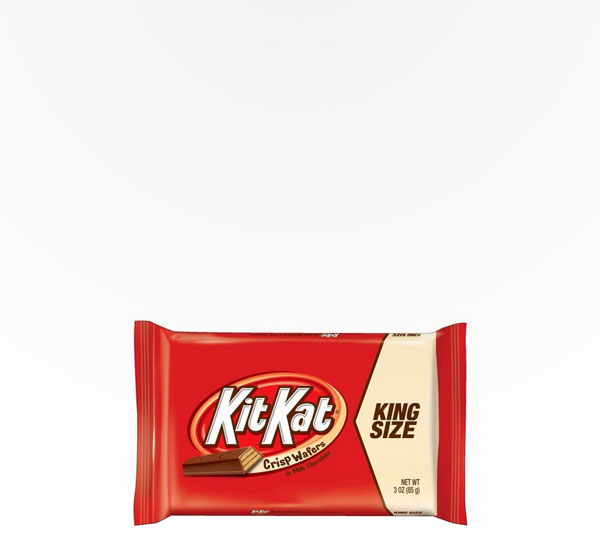kitkat: (130, 320, 469, 528)
